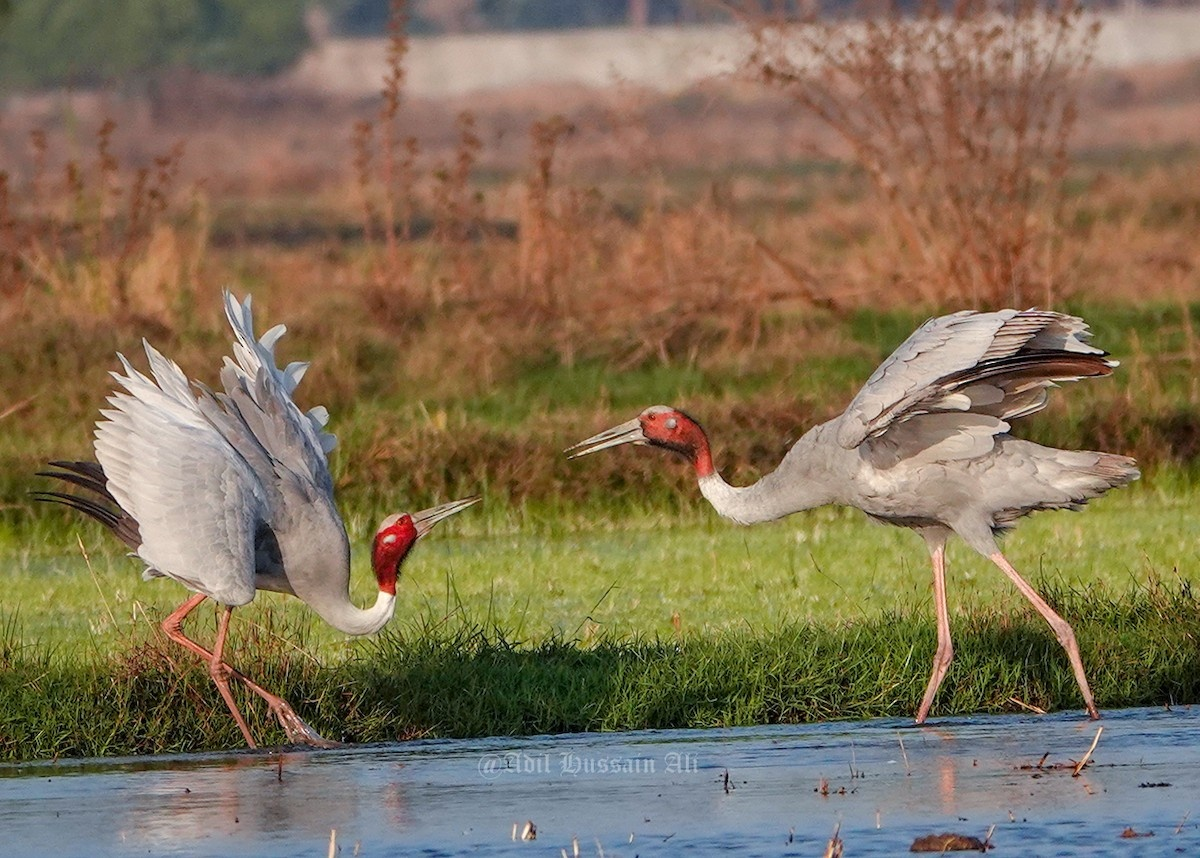crane: (565, 298, 1130, 729), (37, 300, 509, 753)
